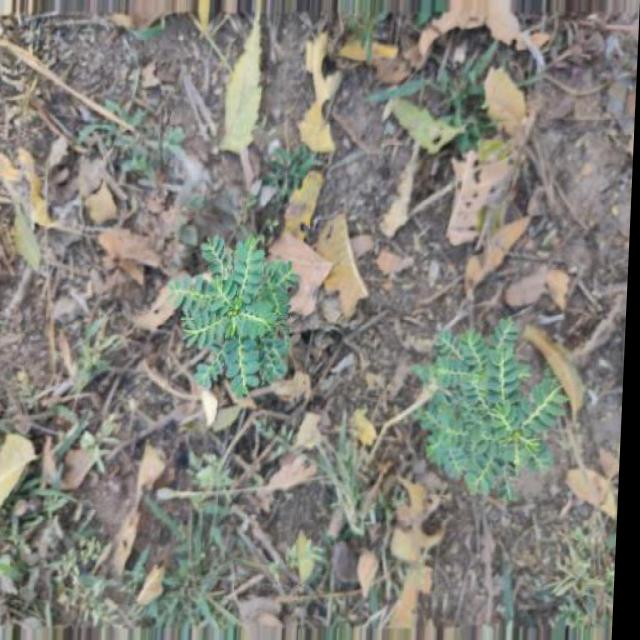weed: (421, 322, 581, 488), (168, 242, 308, 392)
